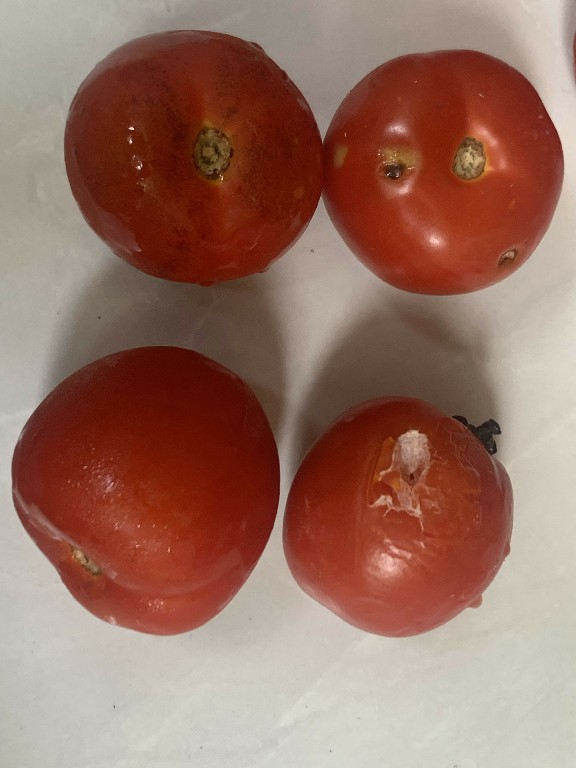NG: (276, 385, 522, 644), (325, 45, 566, 300)
OK: (3, 339, 276, 639), (55, 23, 325, 285)
